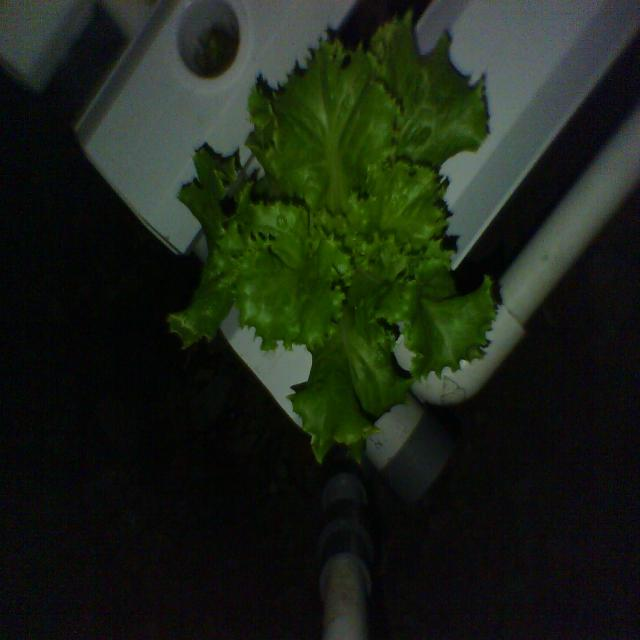FN: (154, 0, 510, 477)
